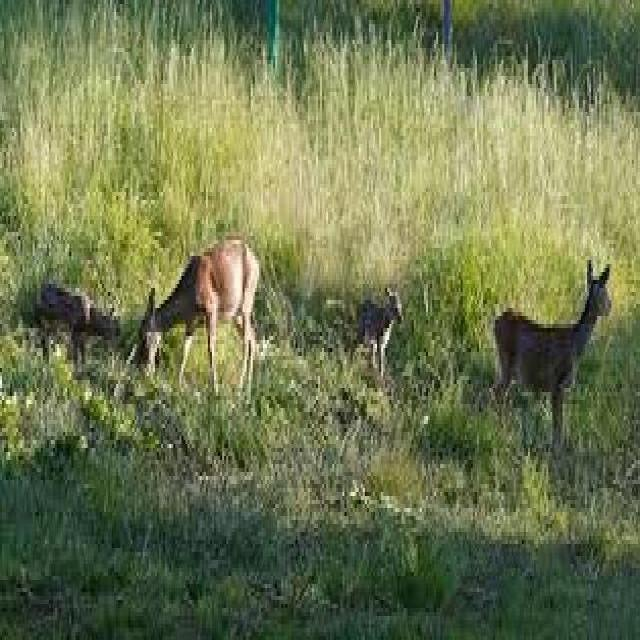deer: (129, 226, 269, 410), (494, 245, 615, 455), (22, 271, 122, 388), (346, 281, 410, 399)
